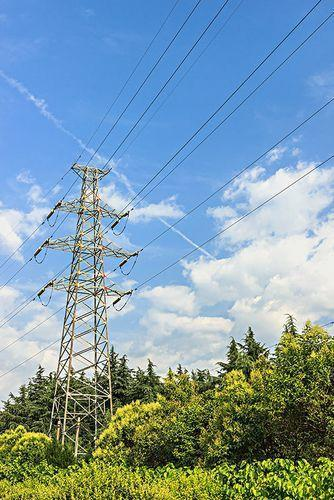power_tower: (39, 156, 142, 456)
